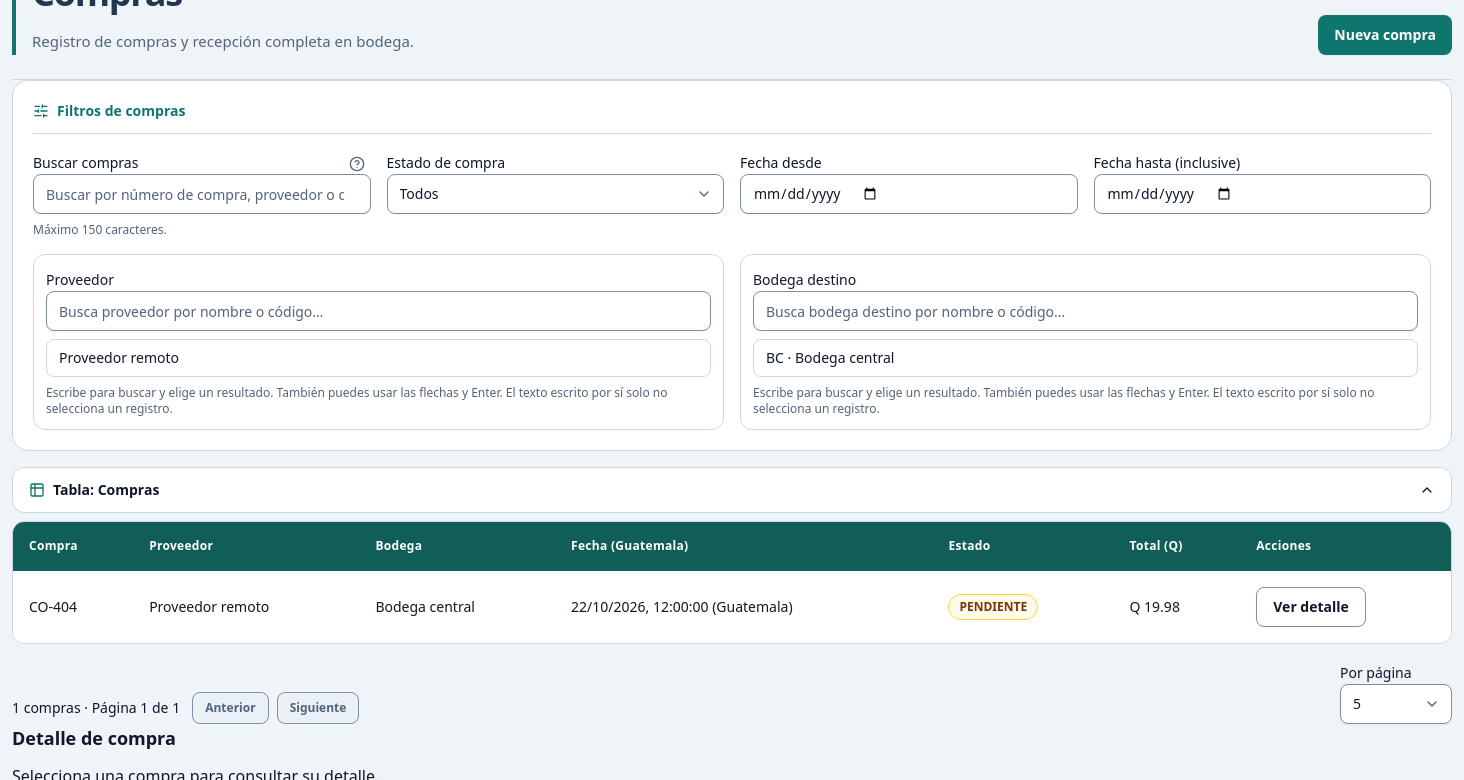
Test: compras HTTP › BODEGA conserva COMPRAS_GESTIONAR sin política de reportes financieros
Check: the text "CO-404" is shown, box [13, 570, 133, 642]
Check: the button "Nueva compra" is enabled, box [1318, 15, 1452, 55]
Click the button with aria-label "Ver CO-404".
click(1311, 606)  # box [1256, 586, 1366, 626]
(page scrolled)
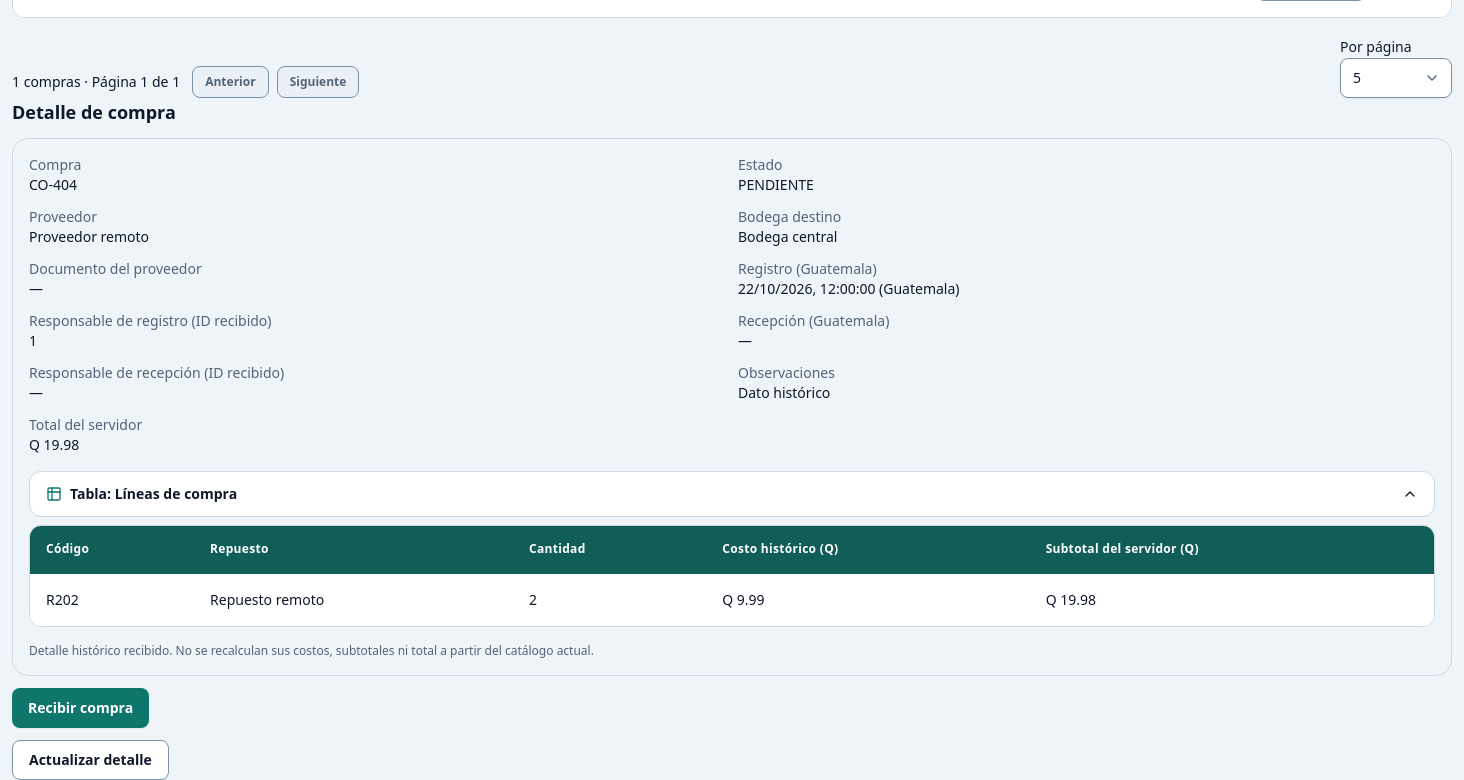
Check: the button "Recibir compra" is enabled, box [12, 688, 149, 728]
